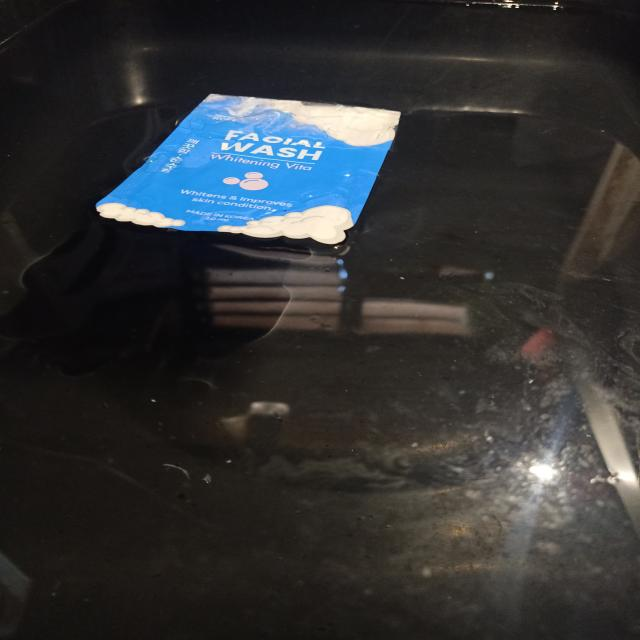Plastic Wrapper: (115, 94, 400, 244)
